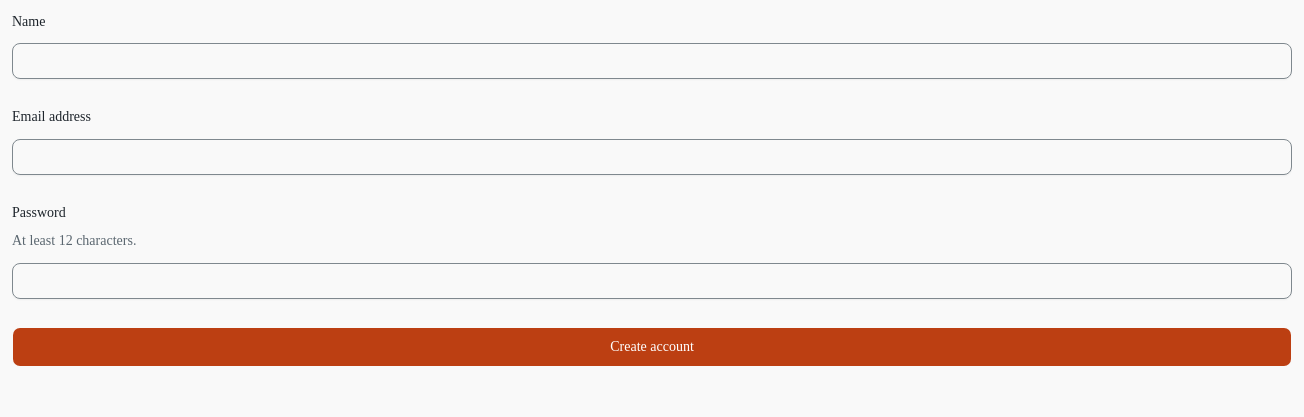
SignUpForm › has no accessibility violations, including while showing an error
This screenshot has width=1304, height=417.
Click the button "Create account".
click(652, 347)  # box [12,327,1292,367]
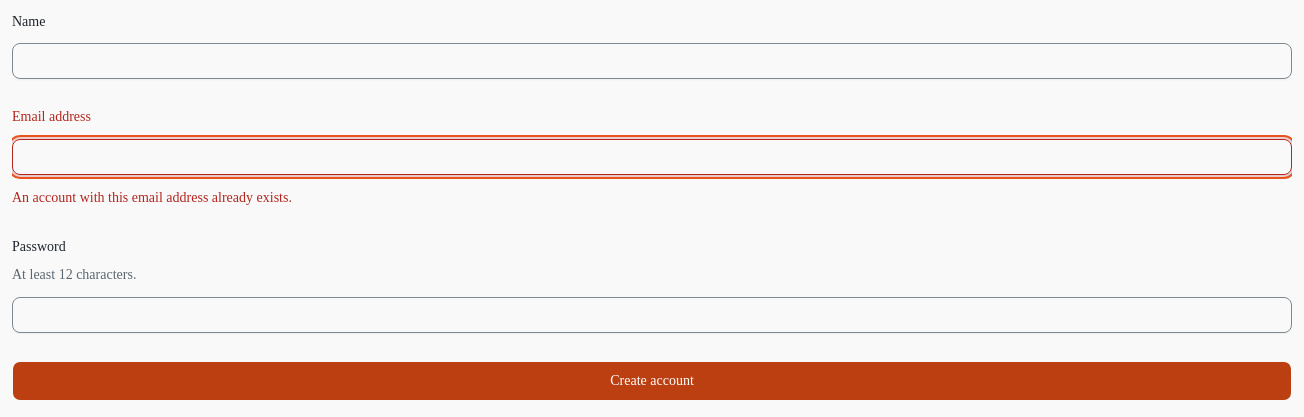
Expected: the message "An account with this email address already exists." is shown, [12,190,292,204]
